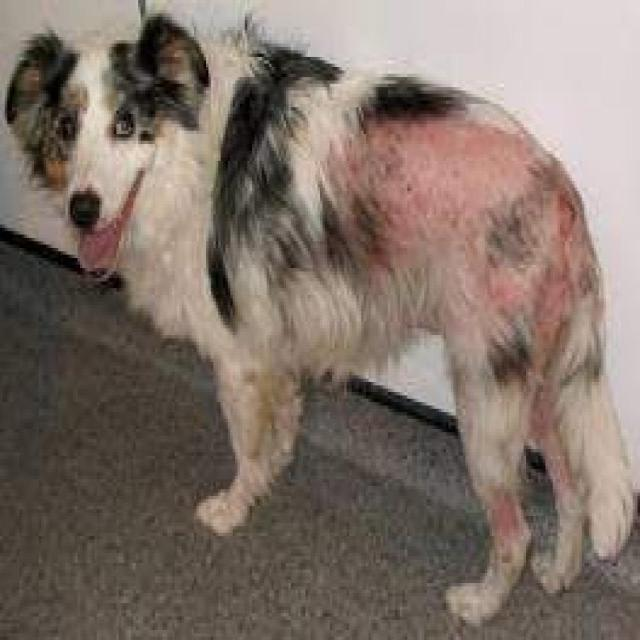allergic dermatitis: (320, 104, 542, 279)
